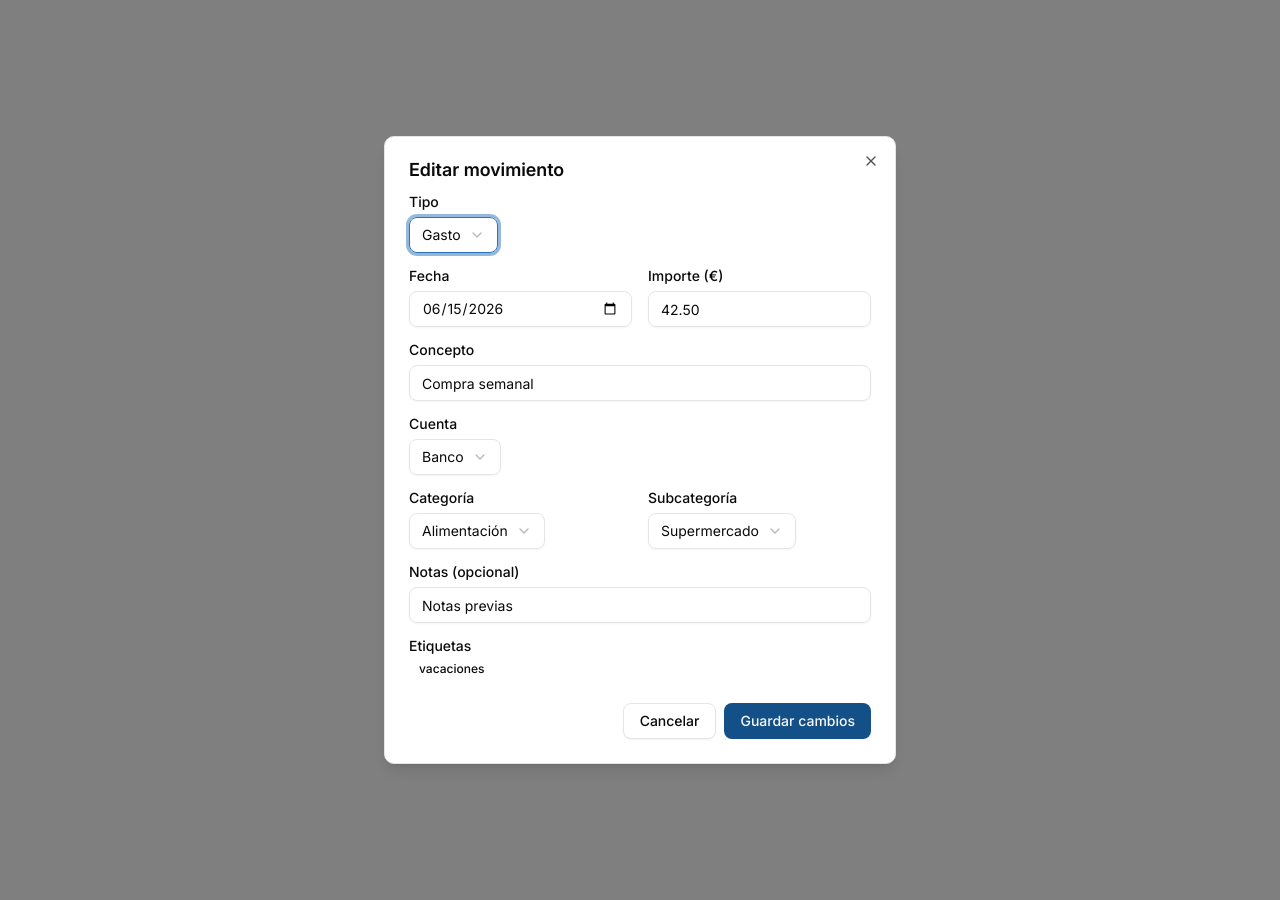
Test case: TransactionForm — categorías › cambiar de tipo limpia la categoría anterior
Click the dropdown named "Tipo".
click(453, 235)  # box [409,217,498,253]
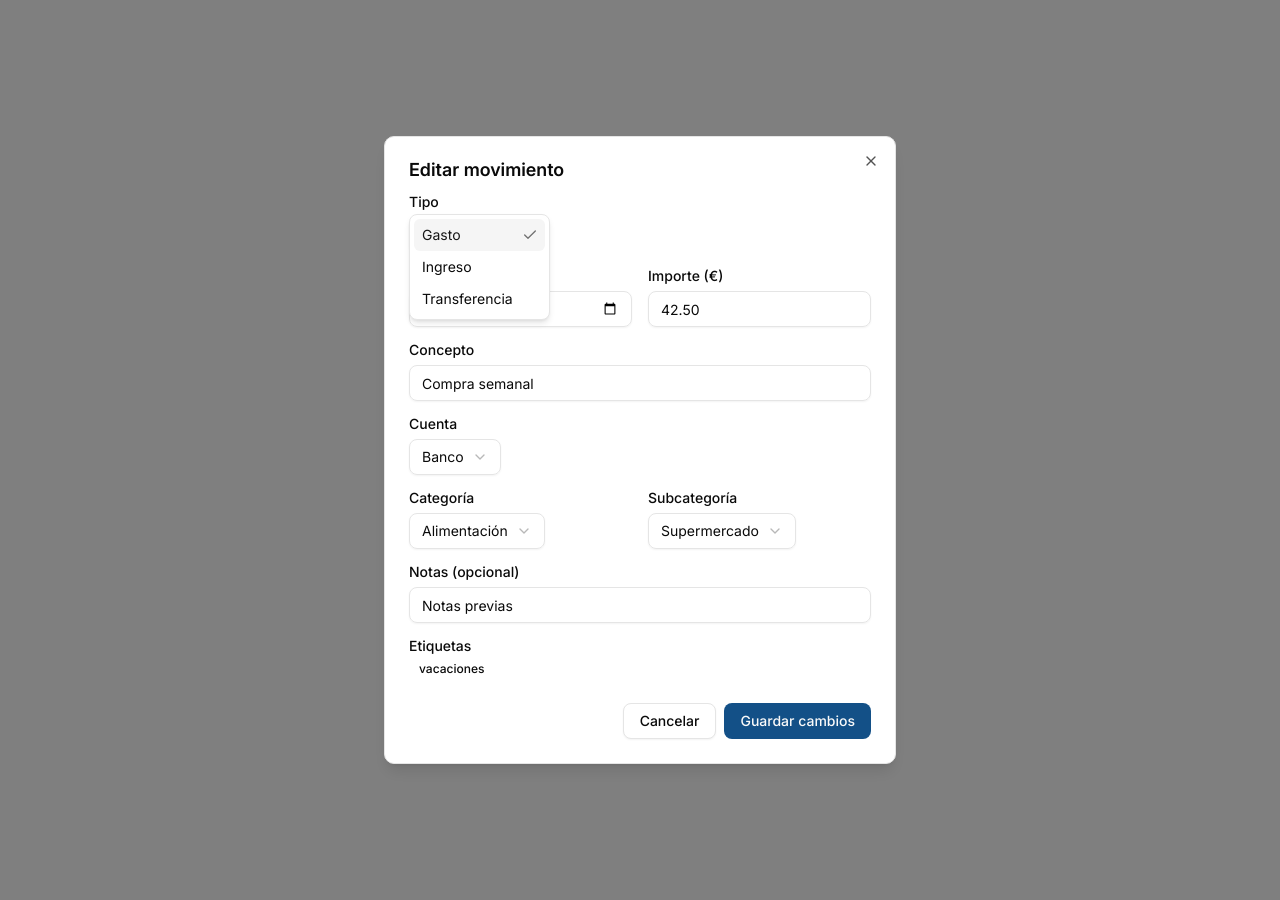
Click the option "Ingreso".
click(447, 266)  # box [422,258,472,275]
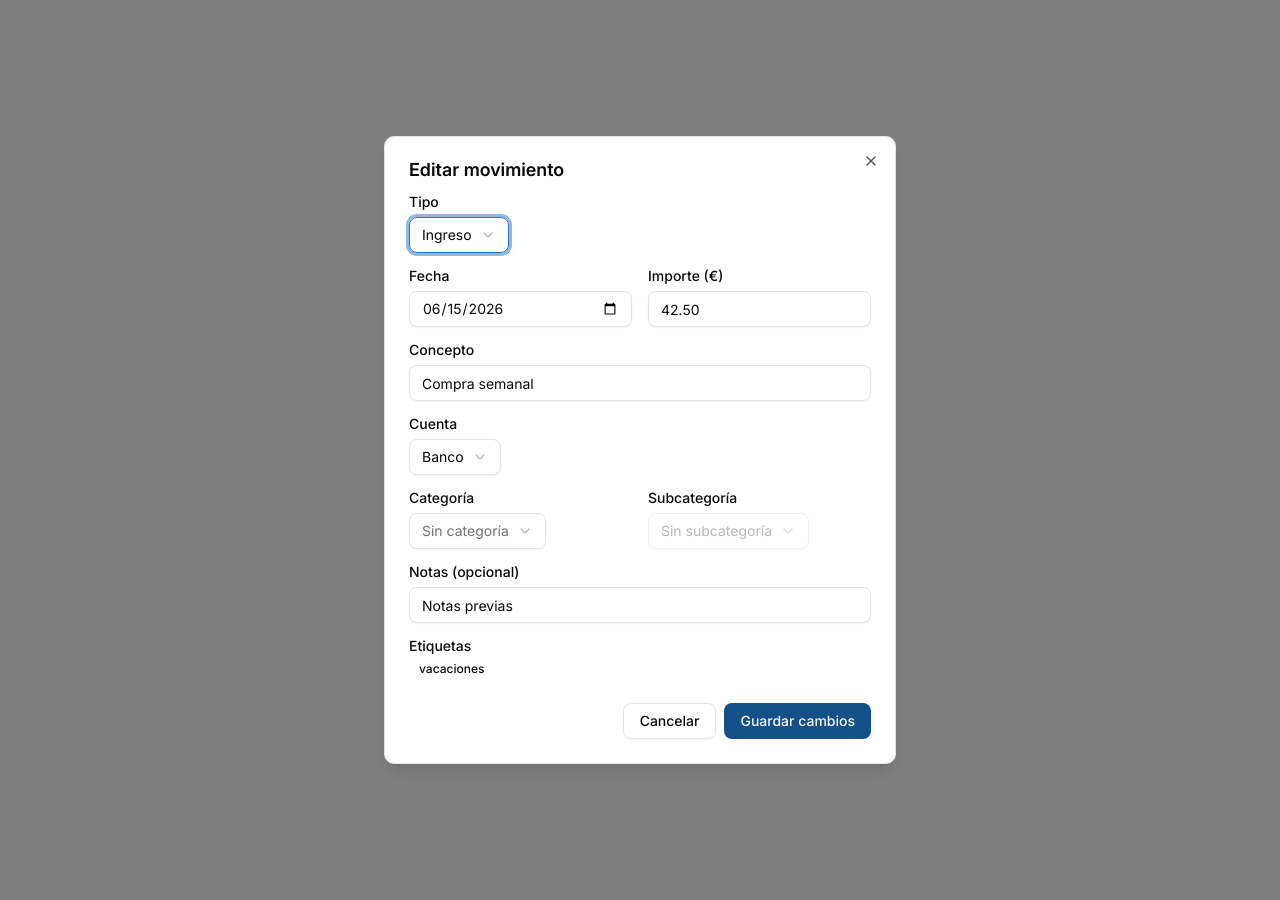
Check: the text "Sin categoría" is shown, box [422,521,509,541]
